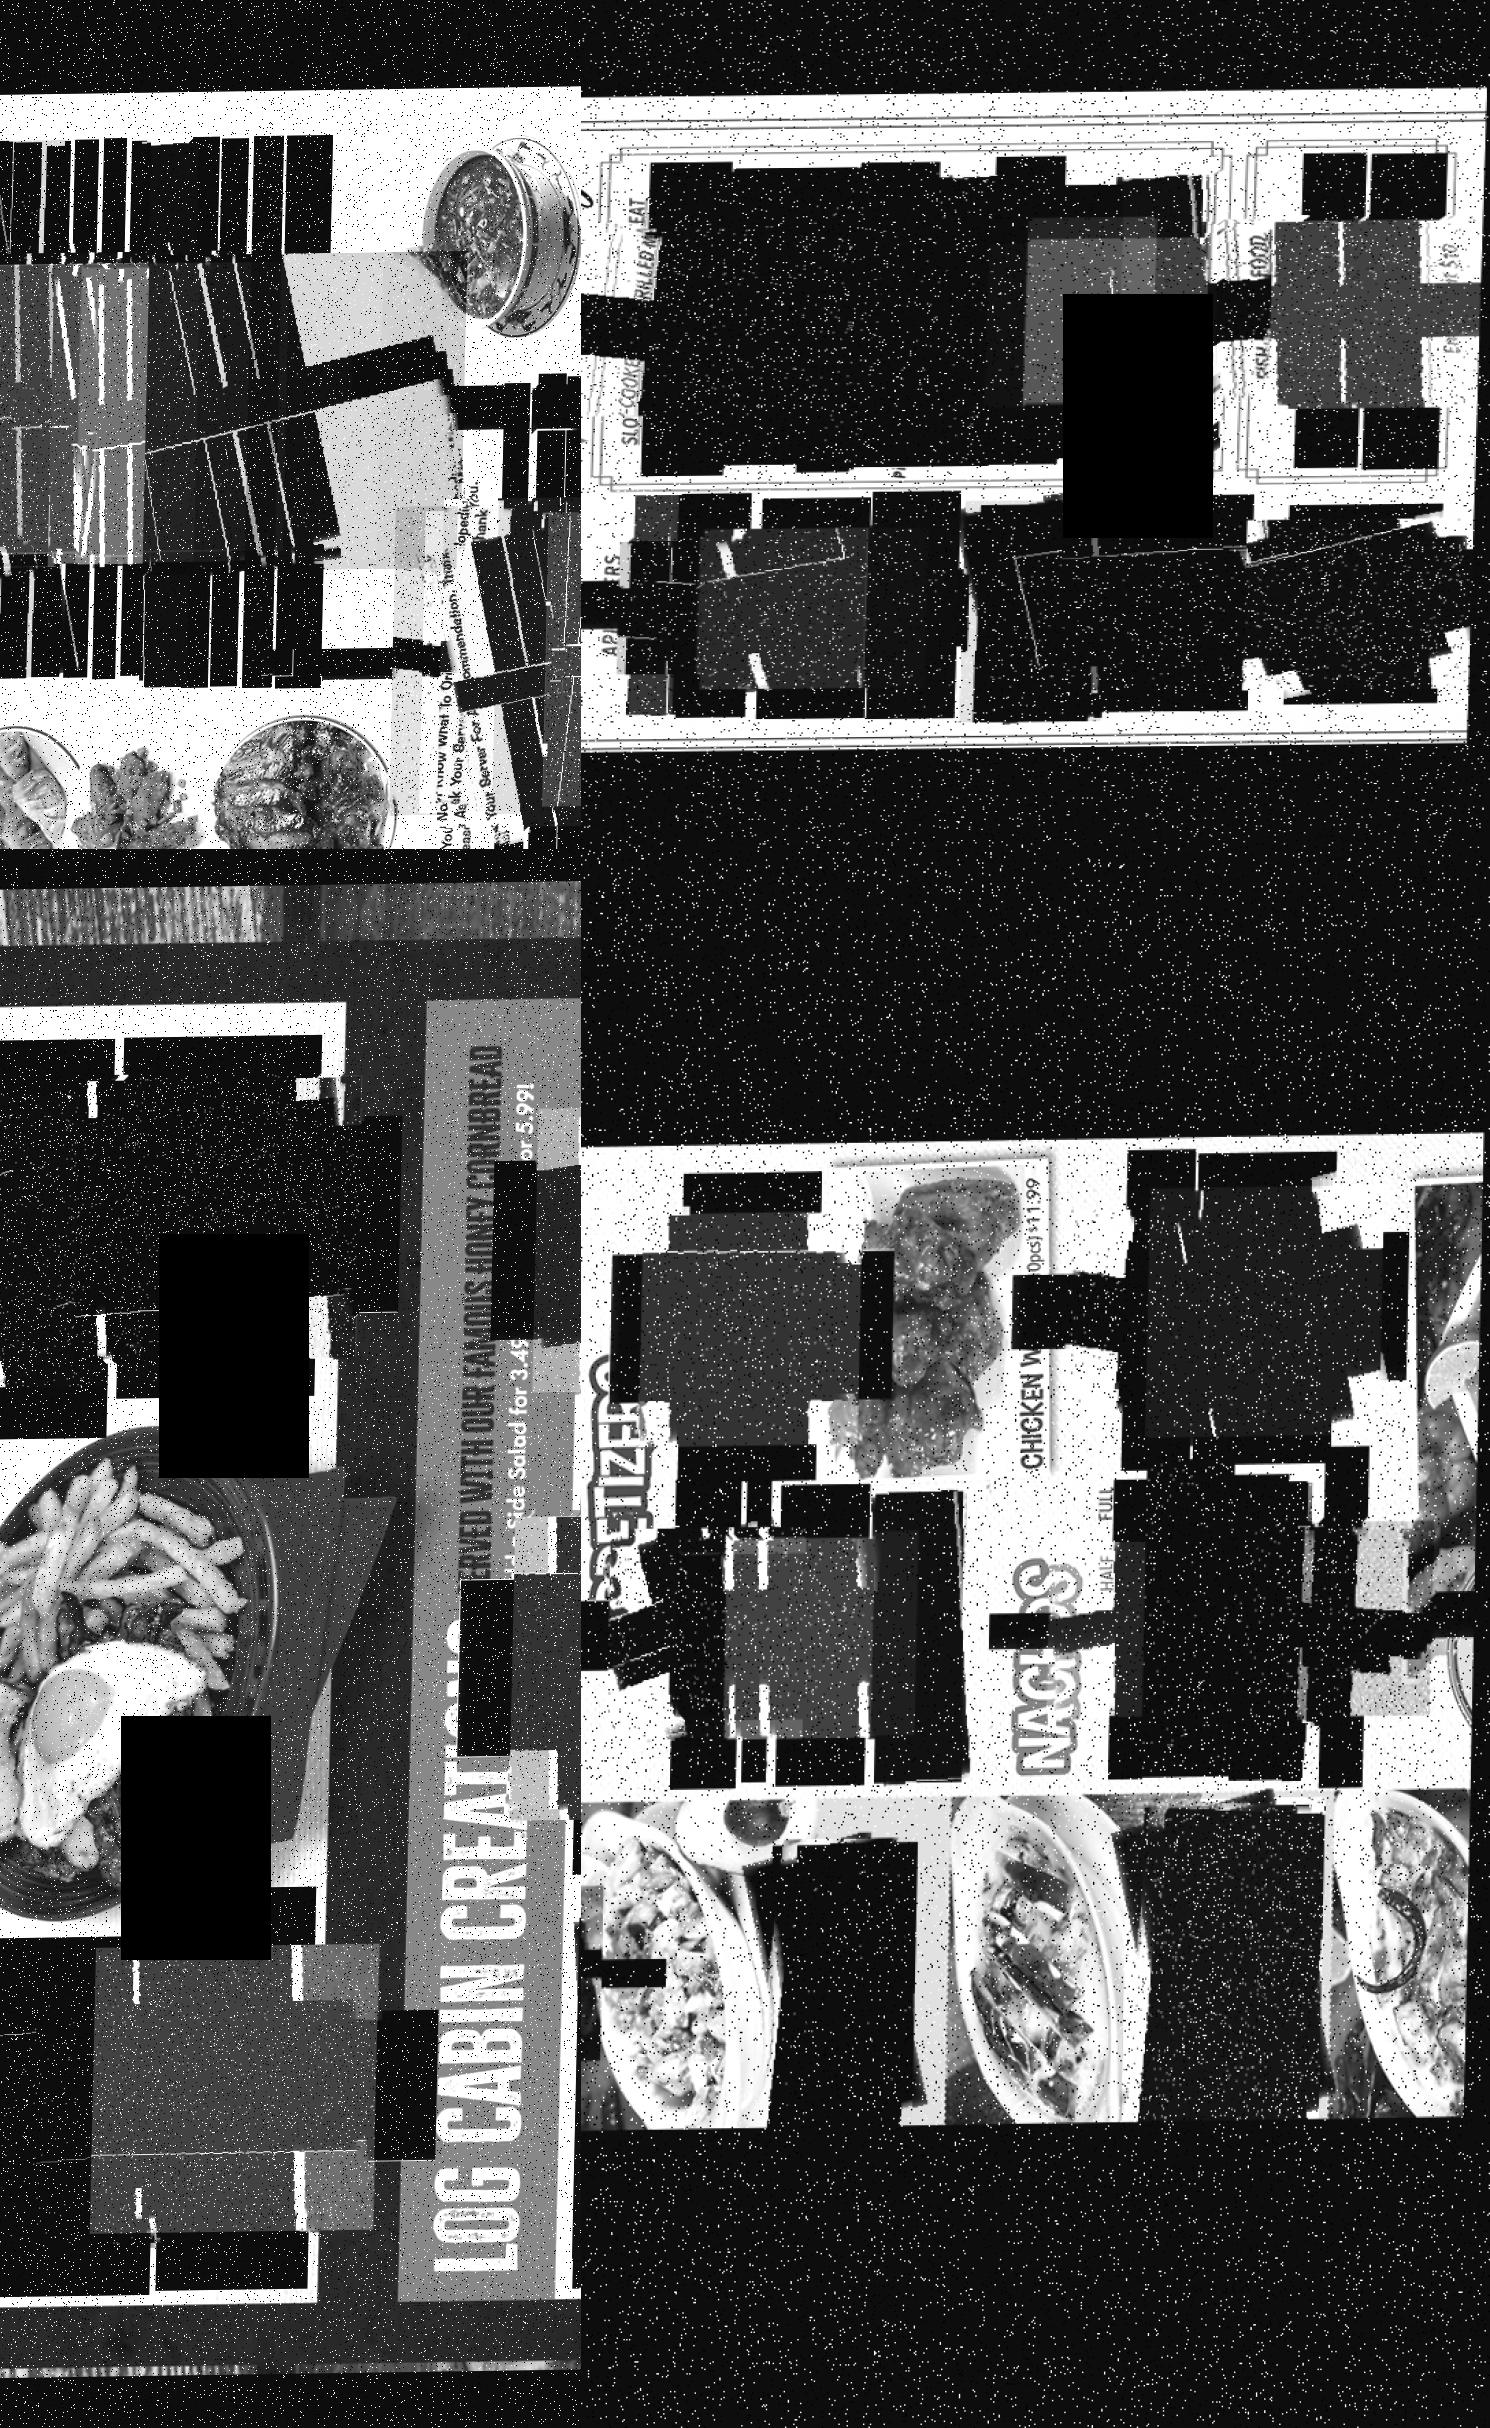Menu-Items: (146, 251, 470, 572), (80, 260, 385, 564), (52, 262, 356, 564), (0, 260, 291, 553), (99, 1946, 390, 2234), (80, 1074, 368, 1361), (0, 250, 241, 565), (0, 262, 257, 552), (1127, 1798, 1330, 2124), (1148, 1181, 1386, 1436), (0, 1089, 198, 1387), (394, 505, 581, 817), (0, 1981, 215, 2249), (0, 262, 199, 552), (642, 1205, 866, 1445), (763, 217, 1034, 411), (899, 217, 1160, 404), (423, 505, 581, 813), (758, 1837, 923, 2128), (1204, 219, 1461, 404), (581, 220, 826, 414), (441, 494, 581, 827), (640, 225, 893, 408), (611, 1524, 808, 1738), (1271, 215, 1485, 409), (730, 1531, 923, 1738), (1247, 519, 1478, 690), (1062, 519, 1296, 687), (977, 238, 1211, 406), (1065, 1209, 1256, 1412), (1254, 1516, 1441, 1717), (0, 251, 118, 564), (1174, 1528, 1358, 1727), (706, 527, 933, 689), (0, 135, 66, 676), (144, 139, 205, 687), (964, 496, 1112, 721), (874, 1491, 980, 1785), (1119, 170, 1228, 453), (1147, 1459, 1238, 1778), (1049, 1542, 1212, 1719), (623, 534, 815, 673), (683, 1547, 840, 1715), (0, 264, 80, 555), (245, 135, 284, 689), (800, 166, 871, 472), (871, 491, 964, 718), (515, 1511, 581, 1821), (931, 168, 999, 465), (498, 376, 539, 850), (635, 494, 687, 715), (1289, 1471, 1322, 1781), (0, 134, 10, 680), (581, 1883, 609, 2060)
